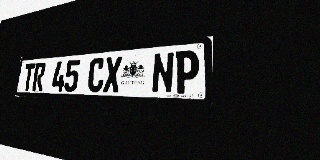4: (51, 61, 67, 92)
5: (64, 59, 80, 92)
C: (87, 57, 105, 92)
N: (151, 52, 175, 93)
P: (174, 50, 199, 94)
R: (32, 62, 46, 91)
T: (22, 63, 35, 91)
X: (103, 56, 122, 92)
